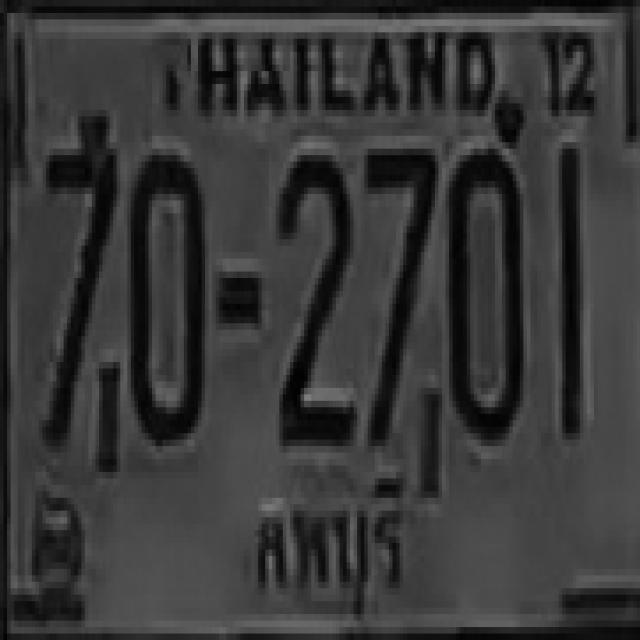0: (127, 148, 202, 440), (445, 146, 520, 437)
1: (559, 142, 580, 433), (559, 145, 580, 430)
2: (276, 148, 350, 440)
7: (41, 110, 115, 452), (361, 142, 435, 440)
LopBuri: (244, 456, 428, 638)
